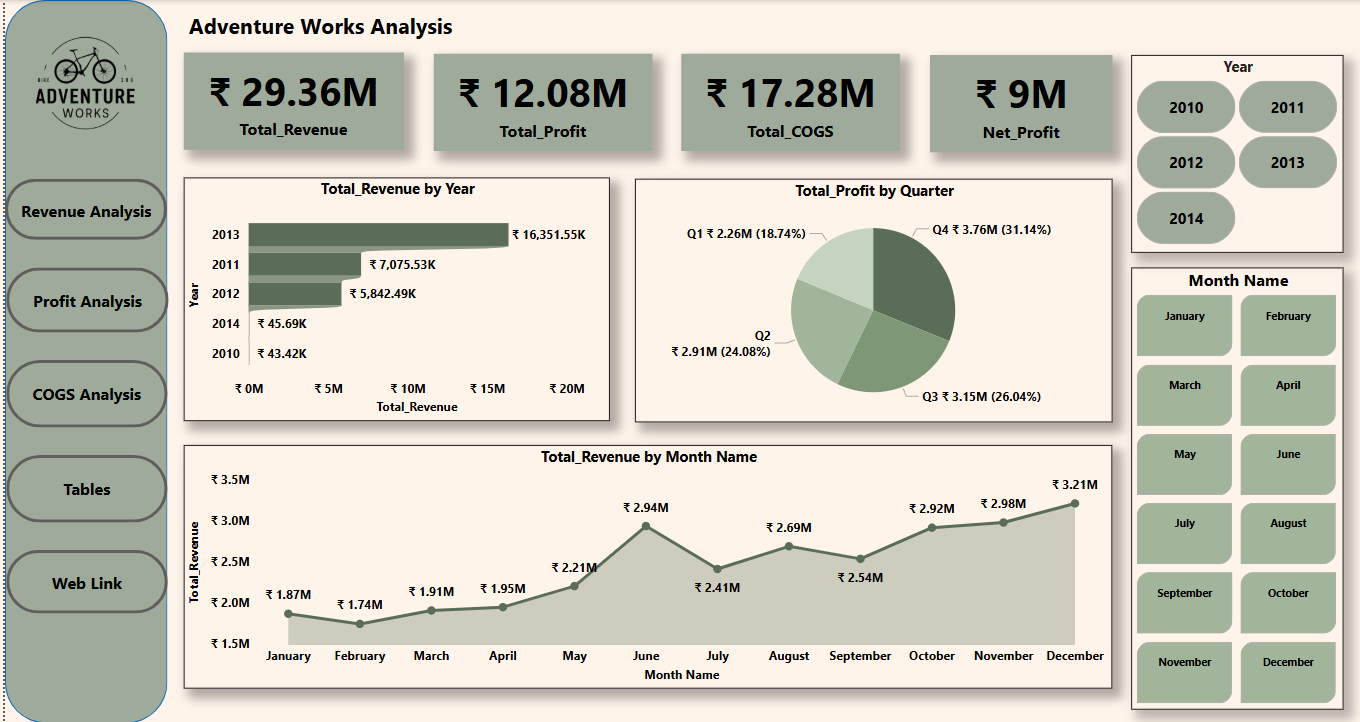

What the dashboard file says about the page in this screenshot:
{"tool":"powerbi","page":{"name":"Dashboard","canvas":[1350,720],"ordinal":0},"visuals":[{"type":"card","title":"Total Sales","fields":{"Values":["Combined Sales Data.Total_Revenue"]},"box":[177.9,52.2,218.9,97],"z":0},{"type":"card","fields":{"Values":["Combined Sales Data.Total_COGS"]},"box":[673.4,53.9,217.7,97],"z":1000},{"type":"card","title":"Total COGS","fields":{"Values":["Combined Sales Data.Total_Profit"]},"box":[426.3,53.1,217.7,97],"z":2000},{"type":"shape","box":[0,0,161.7,720.3],"z":3000},{"type":"actionButton","title":"Revenue","box":[0.9,266.2,161.7,64.7],"z":4000},{"type":"image","box":[0,0,160.5,165.4],"z":5000},{"type":"textbox","box":[177.9,6.2,281.1,46],"z":6000},{"type":"card","fields":{"Values":["Combined Sales Data.Net_Profit"]},"box":[920.5,54.7,181.6,97],"z":7000},{"type":"actionButton","title":"Revenue","box":[1.9,358.3,160.5,67.2],"z":8000},{"type":"actionButton","title":"Revenue","box":[0,177.9,161.7,61],"z":9000},{"type":"actionButton","title":"Revenue","box":[1.6,547.3,160.5,63.4],"z":10000},{"type":"actionButton","title":"Revenue","box":[1.2,452.8,160.5,67.2],"z":11000},{"type":"barChart","fields":{"Y":["Combined Sales Data.Total_Revenue"],"Category":["Combined Sales Data.Year"]},"box":[177.9,176.6,424.2,242.6],"z":12000},{"type":"lineChart","fields":{"Y":["Combined Sales Data.Total_Revenue"],"Category":["Combined Sales Data.Month Name"]},"box":[177.9,442.8,924.3,242.6],"z":13000},{"type":"pieChart","fields":{"Y":["Combined Sales Data.Total_Profit"],"Category":["Combined Sales Data.Quarter"]},"box":[627,177.9,475.2,242.6],"z":14000},{"type":"advancedSlicerVisual","fields":{"Values":["Combined Sales Data.Month Name"]},"box":[1120.8,266.2,211.5,440.4],"z":15000},{"type":"advancedSlicerVisual","fields":{"Values":["Combined Sales Data.Year"]},"box":[1120.8,54.7,211.5,196.5],"z":16000}]}

Visuals, with their boxes in screenshot pixels (x1, y1, x2, y2), scaled from the page's 1350x720 canvas onto the 1360x722 screenshot:
"Total Sales" card: (left=179, top=52, right=400, bottom=150)
card - Combined Sales Data.Total_COGS: (left=678, top=54, right=898, bottom=151)
"Total COGS" card: (left=429, top=53, right=649, bottom=151)
shape: (left=0, top=0, right=163, bottom=721)
"Revenue" actionButton: (left=1, top=267, right=164, bottom=332)
image: (left=0, top=0, right=162, bottom=166)
textbox: (left=179, top=6, right=462, bottom=52)
card - Combined Sales Data.Net_Profit: (left=927, top=55, right=1110, bottom=152)
"Revenue" actionButton: (left=2, top=359, right=164, bottom=427)
"Revenue" actionButton: (left=0, top=178, right=163, bottom=240)
"Revenue" actionButton: (left=2, top=549, right=163, bottom=612)
"Revenue" actionButton: (left=1, top=454, right=163, bottom=521)
barChart - Combined Sales Data.Total_Revenue x Combined Sales Data.Year: (left=179, top=177, right=607, bottom=420)
lineChart - Combined Sales Data.Total_Revenue x Combined Sales Data.Month Name: (left=179, top=444, right=1110, bottom=687)
pieChart - Combined Sales Data.Total_Profit x Combined Sales Data.Quarter: (left=632, top=178, right=1110, bottom=422)
advancedSlicerVisual - Combined Sales Data.Month Name: (left=1129, top=267, right=1342, bottom=709)
advancedSlicerVisual - Combined Sales Data.Year: (left=1129, top=55, right=1342, bottom=252)
